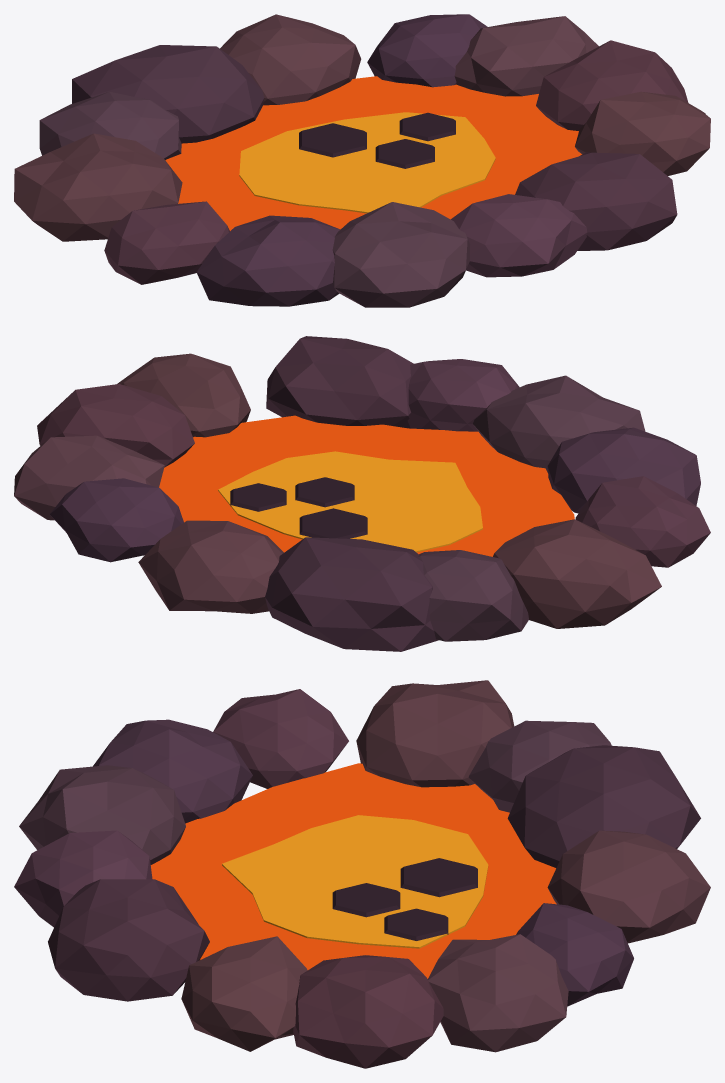
The model's file is decor_3.fbx.
3 renders of one model, top to bottom at view 1: azimuth 30°, elevation 25°; view 2: azimuth 150°, elevation 25°; view 3: azimuth 270°, elevation 25°, orthographic. The views are drawn at different scales.
Parts seen in each view (by area): view 1: decor_3; view 2: decor_3; view 3: decor_3.
Part boxes in pixels (x1,y1,x2,y2): decor_3: (14, 14, 710, 307); decor_3: (14, 336, 710, 651); decor_3: (14, 680, 710, 1068).
Size of the model in its own units: 2.5 by 0.2717 by 2.09.
